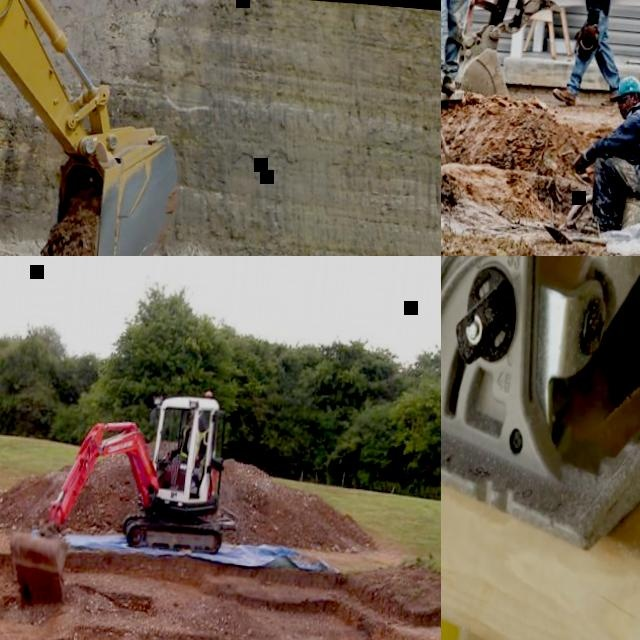Hardhat: (189, 408, 202, 418)
NO-Hardhat: (611, 73, 640, 96)
NO-Mask: (619, 108, 629, 120)
NO-Safety Vest: (623, 108, 640, 174)
Person: (563, 68, 640, 241), (539, 0, 637, 109), (163, 406, 209, 486)
Safety Vest: (181, 422, 207, 461)
machinery: (2, 377, 236, 627), (0, 0, 200, 256), (448, 0, 640, 227)
